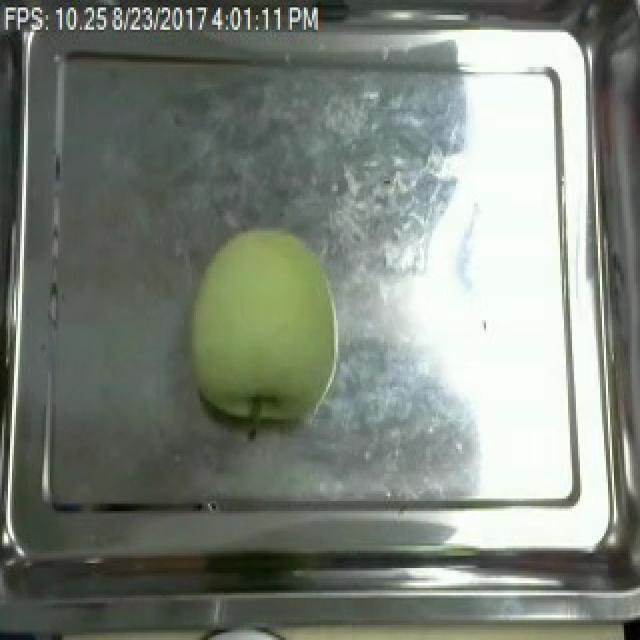50-_ripeness: (172, 200, 352, 442)
